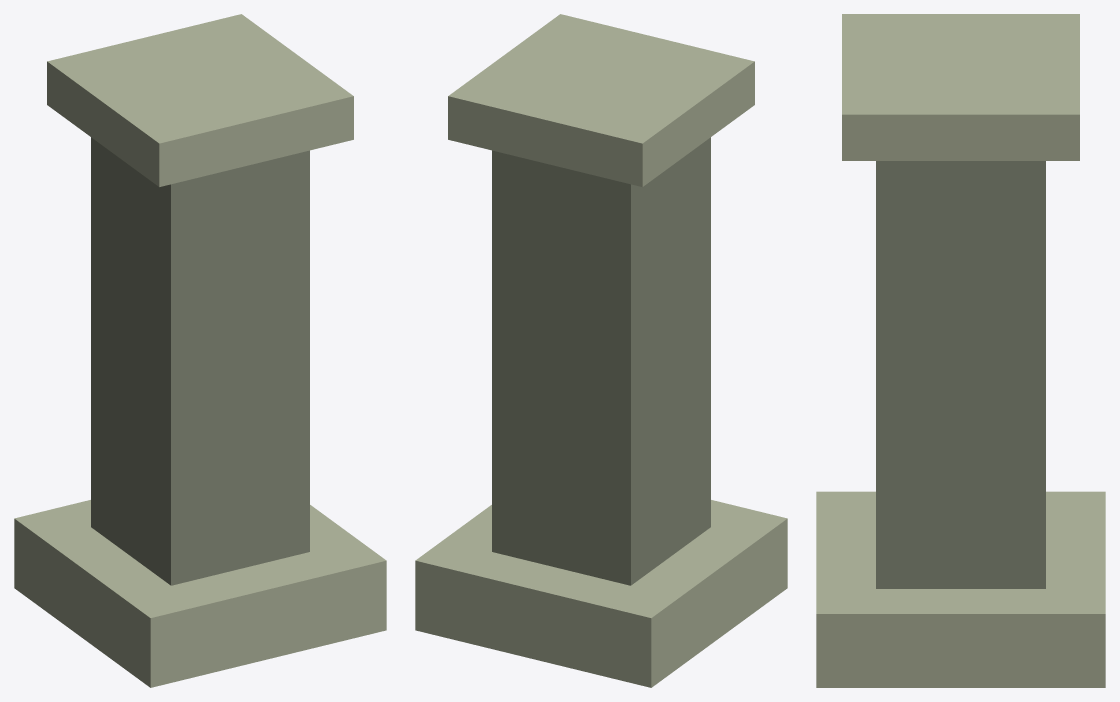
The model's file is stone_pillar.glb.
3 views of the same model, side by side, from view 1: azimuth 30°, elevation 25°; view 2: azimuth 150°, elevation 25°; view 3: azimuth 270°, elevation 25° (orthographic). The views are drawn at different scales.
Parts seen in each view (by area): view 1: column, base, cap; view 2: column, base, cap; view 3: column, base, cap.
Boxes of the visible parts, x1,y1,x2,y2 form: column: [91, 137, 309, 585]; base: [14, 500, 386, 687]; cap: [47, 14, 353, 186]; column: [492, 137, 710, 585]; base: [415, 500, 787, 687]; cap: [448, 14, 754, 186]; column: [876, 161, 1045, 588]; base: [816, 491, 1105, 687]; cap: [842, 14, 1079, 160].
Bounding box in the file's own units: 0.85 × 1.82 × 0.85.
